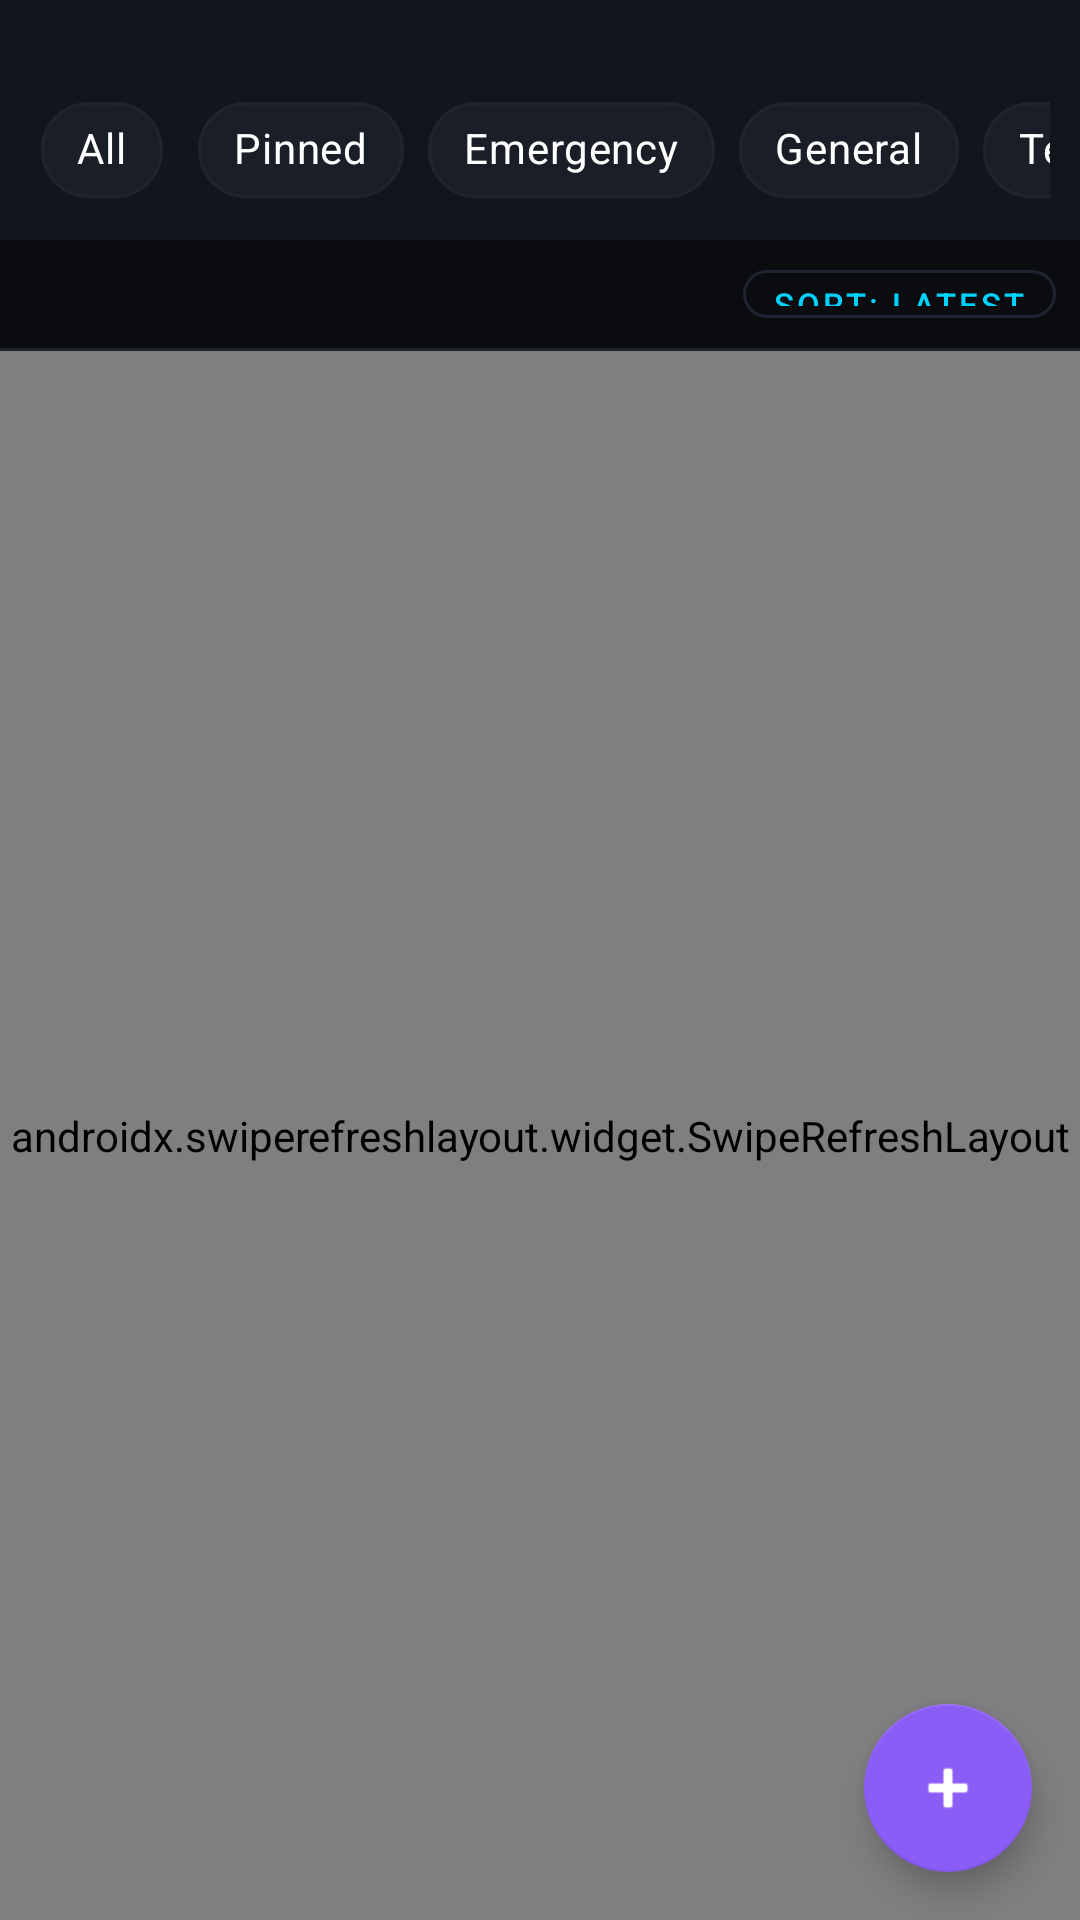

Locate icon controls on the screen. Image size 1080px×1920px, boxes as (x1=x1, y1=y1, x2=x2, y2=y2).
New announcement: (x1=864, y1=1704, x2=1032, y2=1872)
